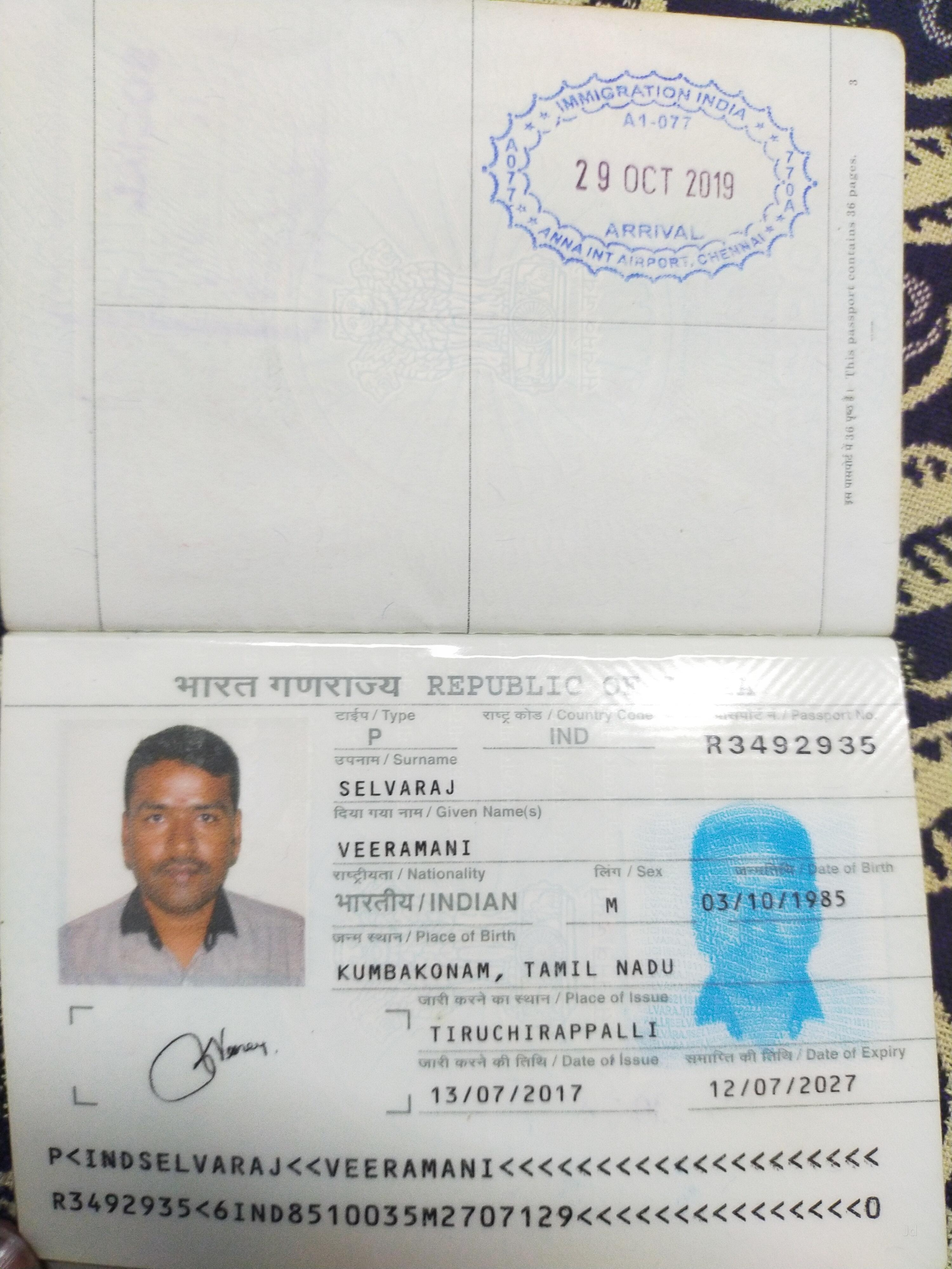DOB: (697, 885, 857, 924)
Surname: (334, 772, 469, 804)
country_code: (541, 719, 598, 754)
date_of_expiry: (704, 1068, 865, 1104)
date_of_issue: (424, 1073, 594, 1118)
details: (32, 1145, 890, 1233)
name: (333, 836, 491, 860)
nationality: (328, 884, 525, 919)
passport_no: (696, 729, 881, 764)
photo: (60, 730, 311, 979)
place_of_birth: (331, 955, 682, 989)
place_of_issue: (424, 1015, 670, 1051)
sex: (594, 886, 626, 921)
sign: (140, 1021, 280, 1100)
type: (359, 723, 391, 758)
